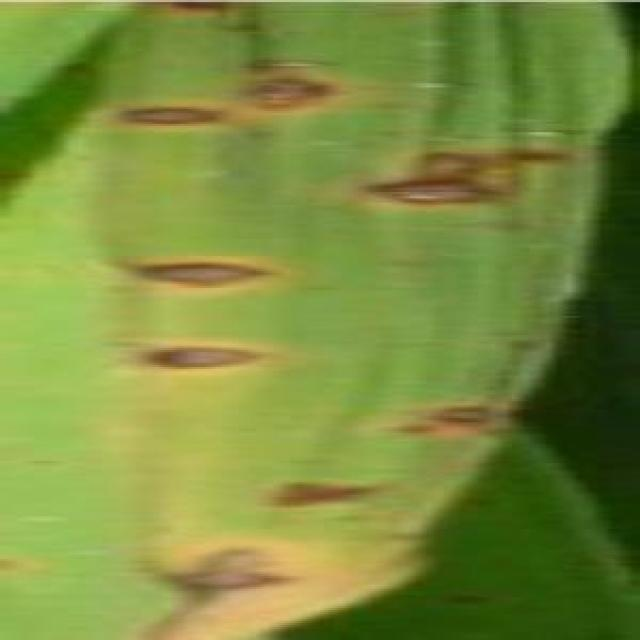brownspots: (126, 234, 273, 304), (124, 326, 269, 386), (162, 546, 290, 606), (260, 462, 376, 518), (120, 85, 226, 145), (226, 51, 335, 109), (365, 166, 495, 214), (391, 399, 504, 442), (497, 134, 576, 167), (166, 4, 258, 17)
